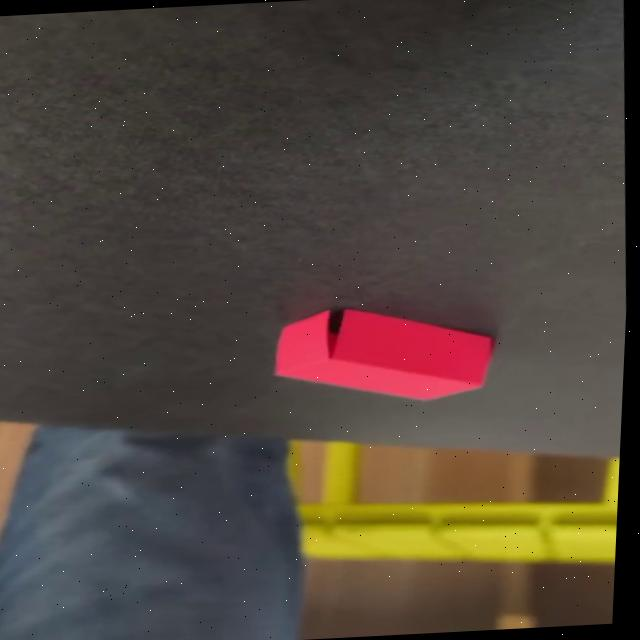red block: (267, 300, 499, 410)
